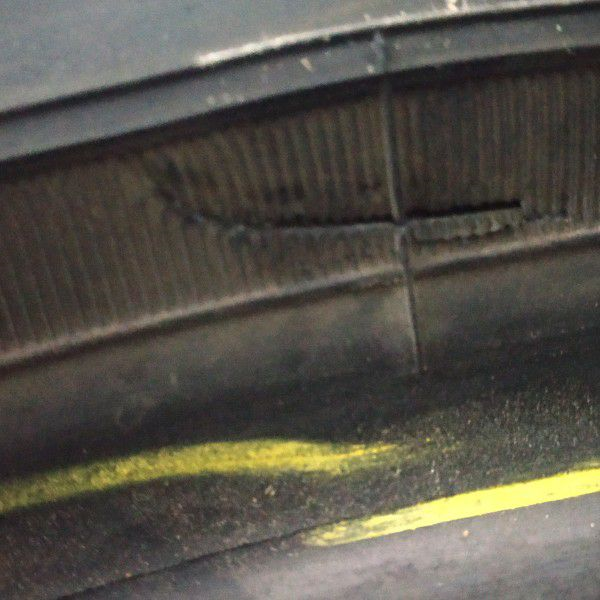cut: (147, 176, 530, 233)
